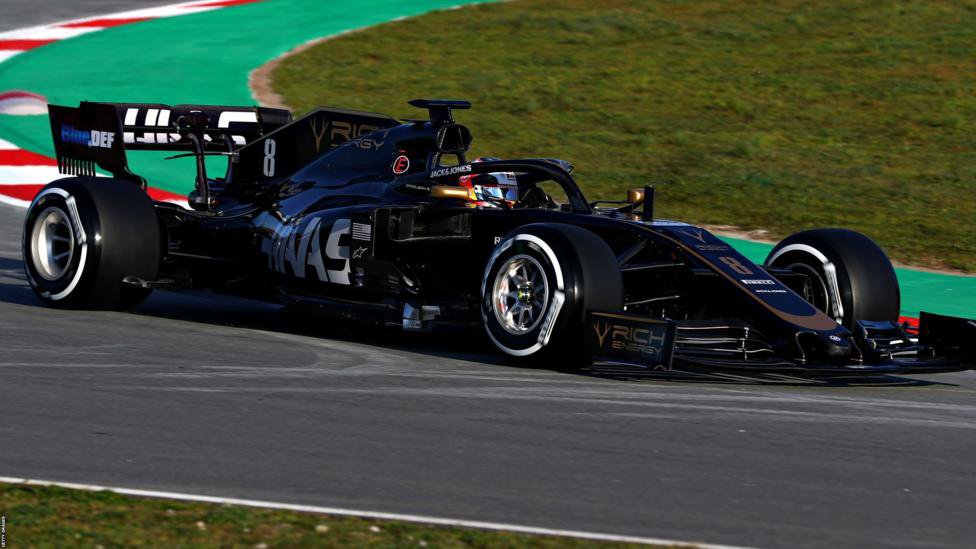F1 Car: (17, 90, 976, 392)
